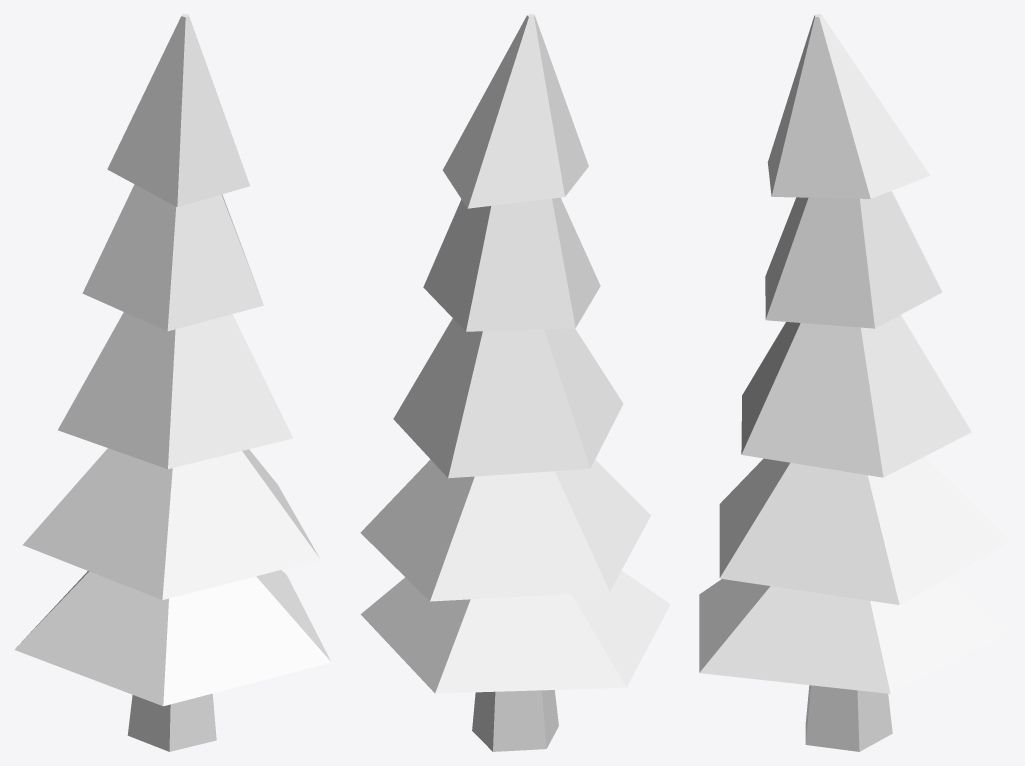
The model's file is tree.spruce.tallest.glb.
3 views of the same model, side by side, from view 1: azimuth 30°, elevation 25°; view 2: azimuth 150°, elevation 25°; view 3: azimuth 270°, elevation 25° (orthographic). The views are drawn at different scales.
Visible parts, largest first — view 1: spruce.tallest; view 2: spruce.tallest; view 3: spruce.tallest.
Boxes of the visible parts, x1,y1,x2,y2 form: spruce.tallest: (14, 14, 331, 751); spruce.tallest: (360, 14, 670, 751); spruce.tallest: (699, 14, 1010, 751).
Bounding box in the file's own units: 3.1 × 7.9 × 3.11.
Materials: 1 (1 with a texture image).
